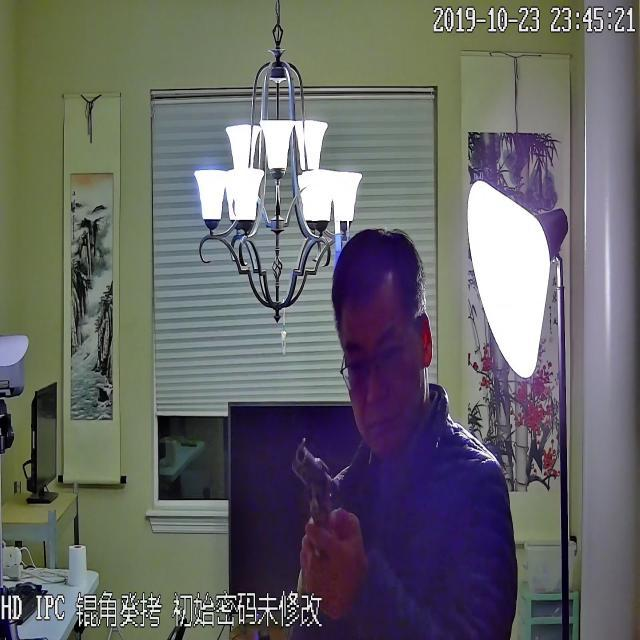gun-knife-thesis - v11 Yolov5 augmented: (291, 433, 361, 619)
